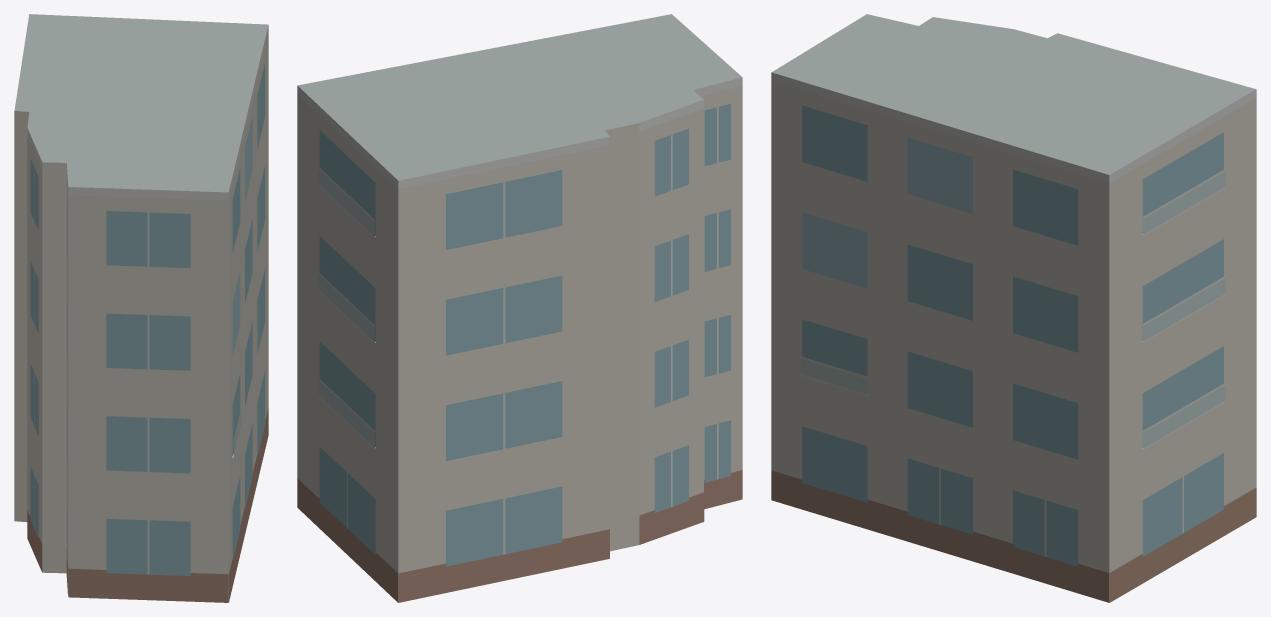
File: survey-upis-32475833.glb
The picture shows the model from 3 angles, left to right: view 1: azimuth 30°, elevation 25°; view 2: azimuth 150°, elevation 25°; view 3: azimuth 270°, elevation 25°; orthographic projection. The views are drawn at different scales.
Visible parts, largest first — view 1: survey-upis-32475833.tmp; view 2: survey-upis-32475833.tmp; view 3: survey-upis-32475833.tmp.
Boxes of the visible parts, x1=… form: survey-upis-32475833.tmp: x1=14, y1=14, x2=268, y2=602; survey-upis-32475833.tmp: x1=297, y1=14, x2=742, y2=602; survey-upis-32475833.tmp: x1=771, y1=14, x2=1256, y2=602.
Size of the model in its own units: 9.86 by 12.2 by 12.55.
